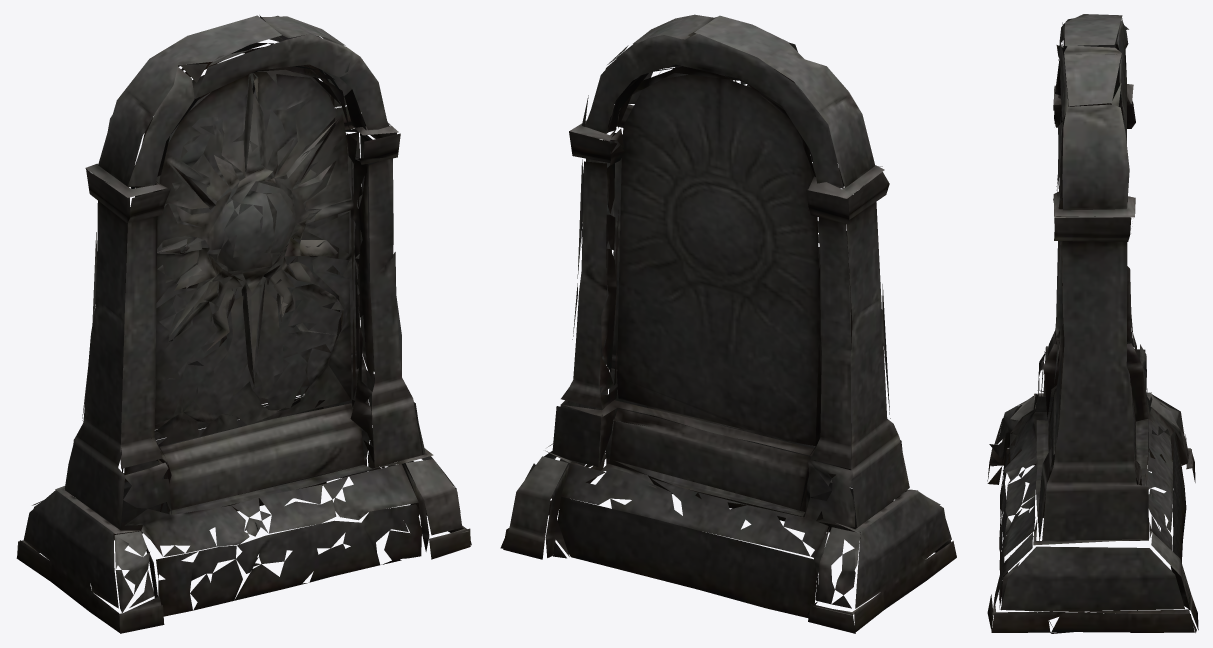
Rendered from pro_memorial.glb.
3 views of the same model, side by side, from view 1: azimuth 30°, elevation 25°; view 2: azimuth 150°, elevation 25°; view 3: azimuth 270°, elevation 25° (orthographic).
Visible parts, largest first — view 1: MetricPlacement; view 2: MetricPlacement; view 3: MetricPlacement.
Boxes of the visible parts, box(x1,y1,x2,y2) form: MetricPlacement: box(16, 15, 471, 633); MetricPlacement: box(500, 14, 956, 633); MetricPlacement: box(987, 14, 1198, 633).
Size of the model in its own units: 1.13 by 1.6 by 0.5898.
1 material, 1 textured.
